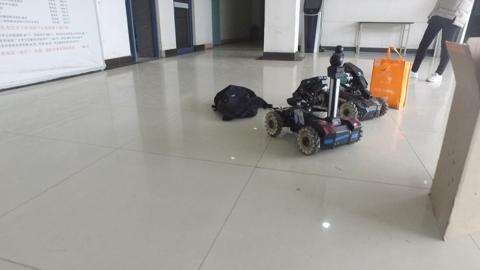bag: (372, 45, 409, 108)
chariot: (265, 51, 363, 151), (337, 46, 388, 119)
